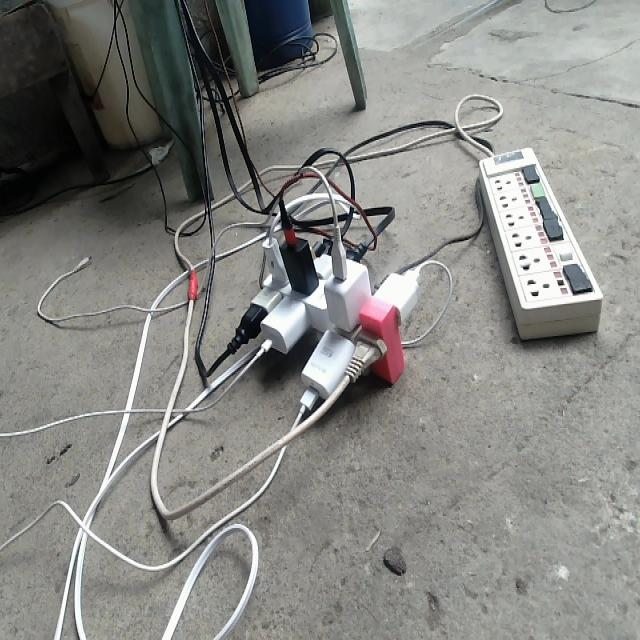-: (226, 197, 420, 415)
